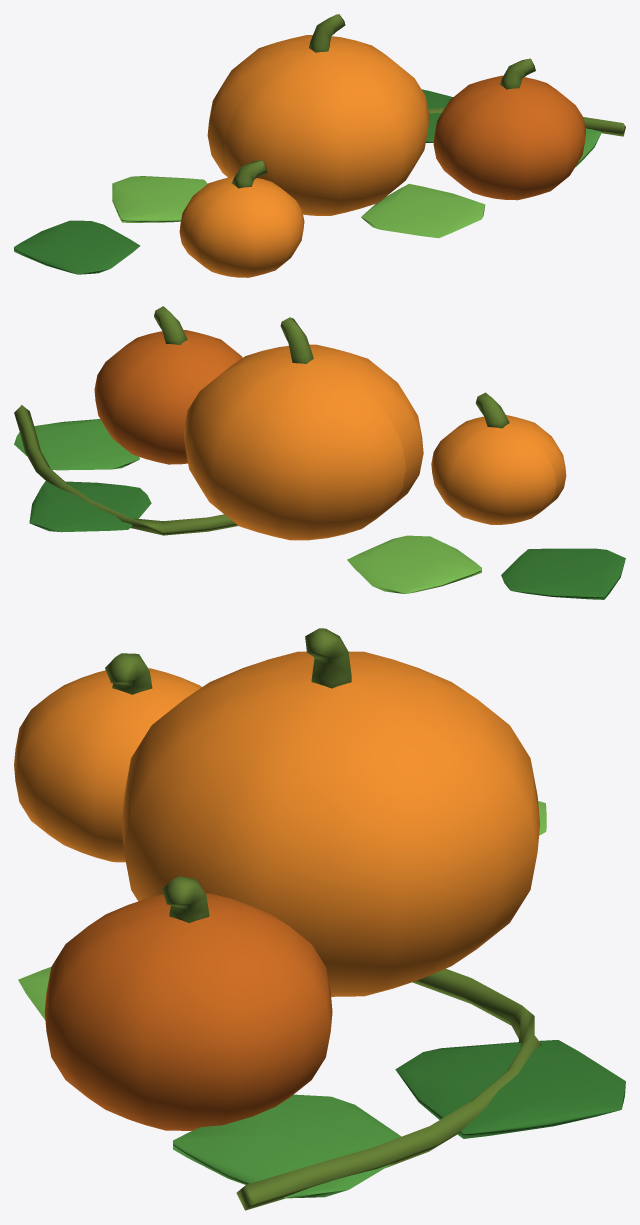
The model's file is Pumpkins.glb.
The picture shows the model from 3 angles, top to bottom: view 1: azimuth 30°, elevation 25°; view 2: azimuth 150°, elevation 25°; view 3: azimuth 270°, elevation 25°; orthographic projection. The views are drawn at different scales.
Visible parts, largest first — view 1: Body; view 2: Body; view 3: Body.
Boxes of the visible parts, x1,y1,x2,y2 form: Body: (14, 14, 625, 277); Body: (14, 306, 625, 599); Body: (14, 628, 625, 1210).
Bounding box in the file's own units: 4.51 × 1.39 × 2.15.
1 material, 1 textured.
